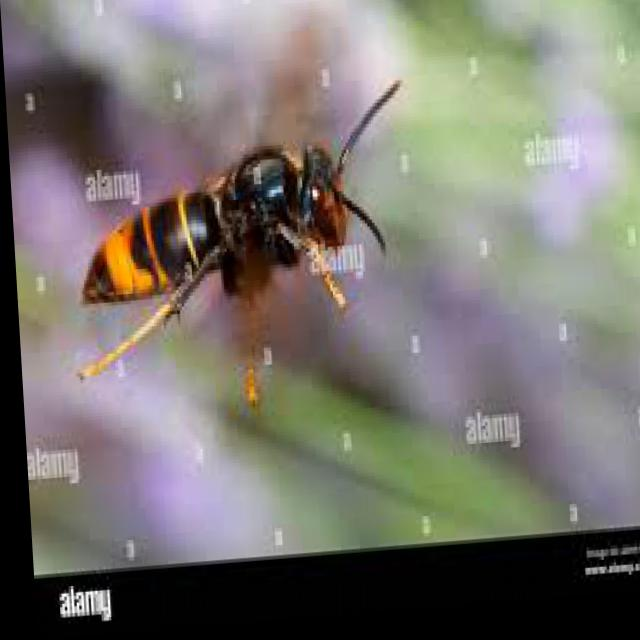Vespa Velutina: (44, 78, 421, 438)
